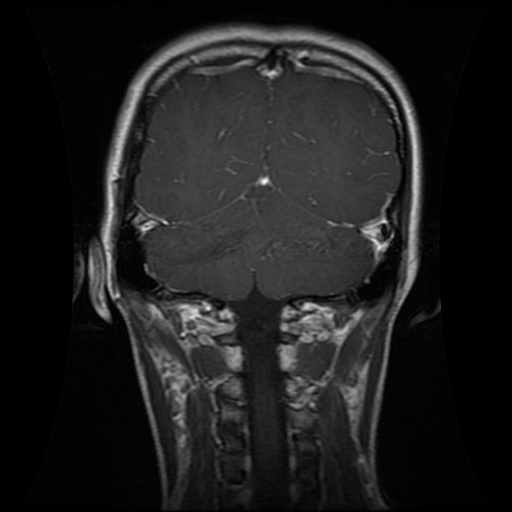glioma: (173, 229, 246, 265)
